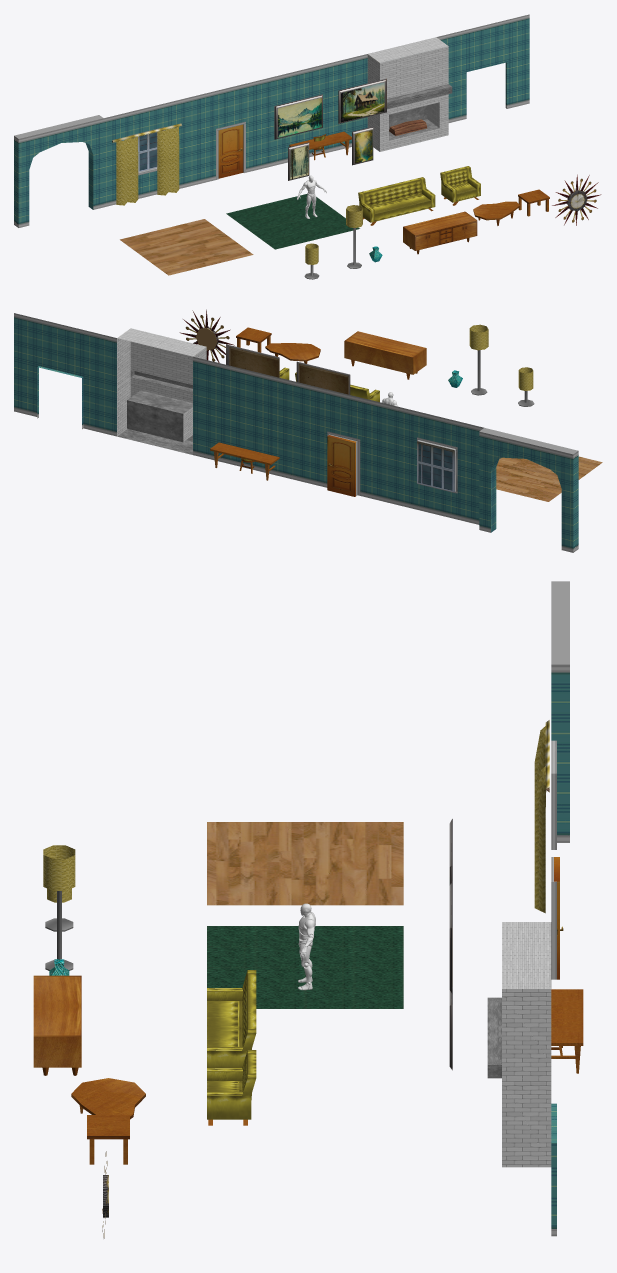
Rendered from dining_table.fbx.
3 renders of one model, top to bottom at view 1: azimuth 30°, elevation 25°; view 2: azimuth 150°, elevation 25°; view 3: azimuth 270°, elevation 25°, orthographic. The views are drawn at different scales.
Parts seen in each view (by area): view 1: wall_fireplace, wall_doorway, wall_archway, wall_window, wall, wall_archway2, floor, floor2, curtains, sofa, credenza, painting (+12 smaller); view 2: wall_fireplace, wall_window, wall, wall_doorway, wall_archway, wall_archway2, floor, credenza, wall_half, retro_door, painting, painting.001 (+7 smaller); view 3: floor, floor2, wall_fireplace, credenza, wall_archway2, sofa, sofa_chair, curtains, coffee_table, dining_table, lamp, end_table (+1 smaller).
Boxes of the visible parts, x1,y1,x2,y2 form: wall_fireplace: (359,35,452,151); wall_doorway: (189,77,274,186); wall_archway: (444,14,529,122); wall_window: (104,97,188,207); wall: (274,56,359,165); wall_archway2: (14,115,103,227); floor: (120,219,253,275); floor2: (226,193,359,249); curtains: (112,123,181,205); sofa: (358,177,435,225); credenza: (403,211,477,254); painting: (274,94,322,139); wall_fireplace: (108,328,206,457); wall_window: (390,405,483,524); wall: (202,359,296,479); wall_doorway: (296,382,390,502); wall_archway: (14,313,107,434); wall_archway2: (479,428,578,552); floor: (496,456,602,501); credenza: (344,331,426,379); wall_half: (202,359,249,468); retro_door: (327,435,356,496); painting: (296,361,350,394); painting.001: (226,344,279,377); floor: (207,822,403,905); floor2: (207,926,403,1008); wall_fireplace: (487,922,551,1167); credenza: (33,975,81,1075); wall_archway2: (551,581,569,842); sofa: (207,970,256,1067); sofa_chair: (207,1050,256,1125); curtains: (534,720,549,913); coffee_table: (71,1078,145,1119); dining_table: (551,989,583,1073); lamp: (43,845,75,970); end_table: (87,1115,129,1164).
Bounding box in the file's own units: 2400 × 523 × 1118.
Materials: 4 (4 with a texture image).
